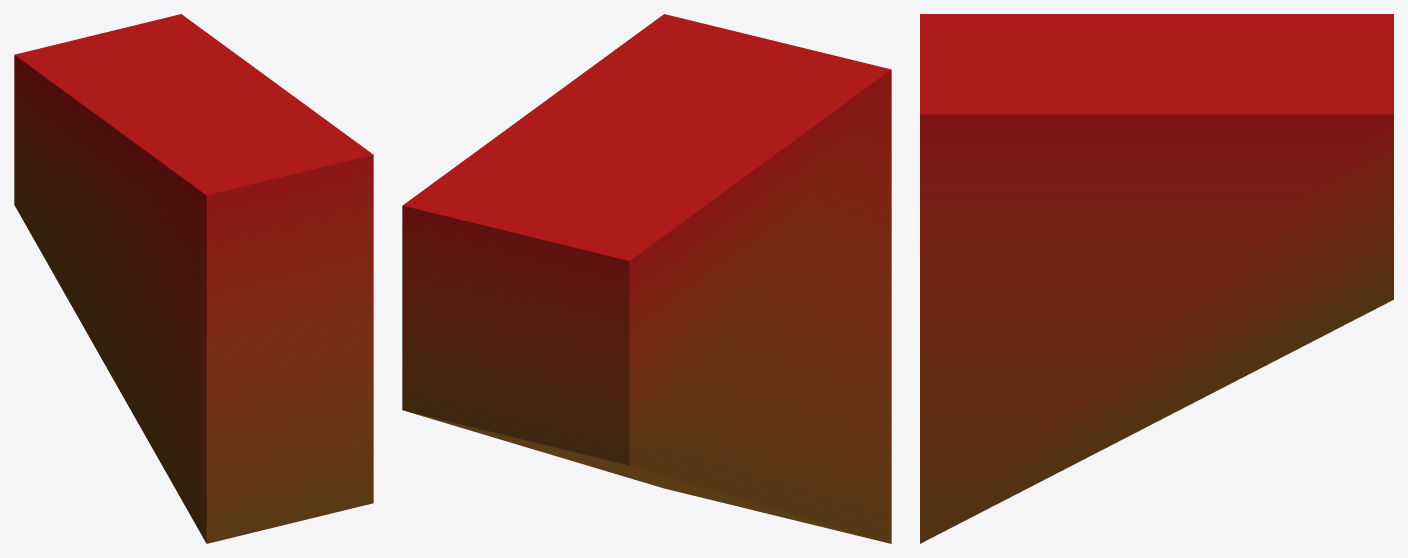
Rendered from Floor Right.fbx.
3 views of the same model, side by side, from view 1: azimuth 30°, elevation 25°; view 2: azimuth 150°, elevation 25°; view 3: azimuth 270°, elevation 25° (orthographic). The views are drawn at different scales.
Parts seen in each view (by area): view 1: FloorRight; view 2: FloorRight; view 3: FloorRight.
Boxes of the visible parts, box(x1,y1,x2,y2) form: FloorRight: box(14, 14, 373, 543); FloorRight: box(402, 14, 891, 543); FloorRight: box(920, 14, 1393, 543).
Size of the model in its own units: 1.41 by 2.81 by 2.81.
